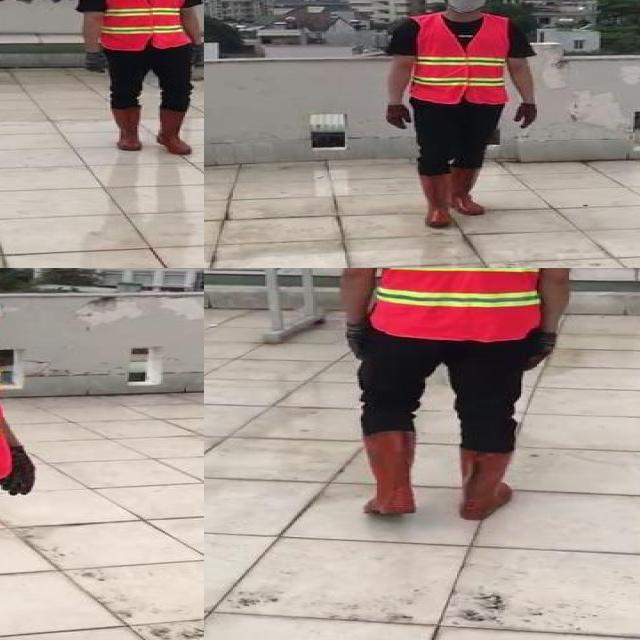boots: (361, 430, 420, 517), (457, 444, 512, 520), (414, 172, 456, 229), (155, 106, 194, 155), (109, 105, 148, 152), (452, 164, 486, 213)
face_mask: (440, 0, 493, 13)
hand_glove: (1, 449, 39, 498), (344, 319, 374, 361), (526, 333, 553, 372), (384, 104, 413, 130), (82, 51, 108, 74), (516, 104, 538, 129), (185, 46, 204, 68)
person: (328, 268, 596, 523), (379, 0, 541, 232), (0, 268, 75, 640), (72, 0, 204, 167)
vest: (373, 268, 558, 340), (412, 11, 510, 106), (96, 0, 194, 50)
